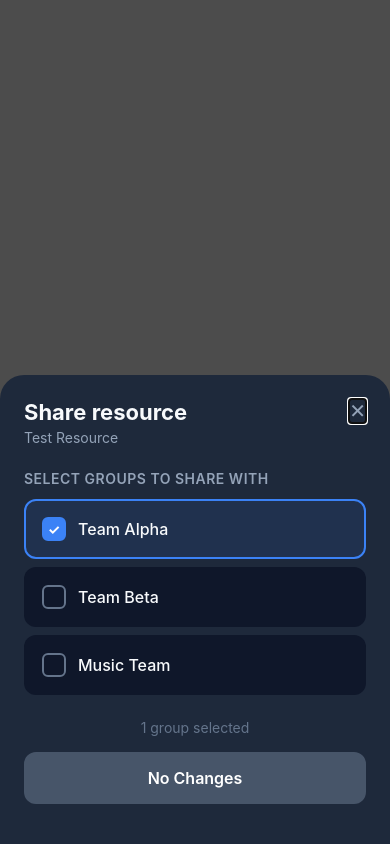
ShareResourceModal › should deselect group on second press
The image size is (390, 844).
Note: Deselect Team Alpha (was pre-selected)
Click the text "Team Alpha" at (123, 529), box [78,519,168,539]
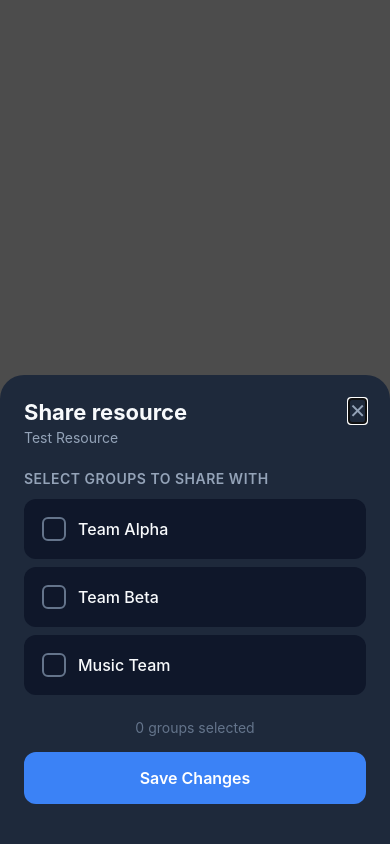
Check: the text "0 groups selected" is shown, box [135,719,255,736]
